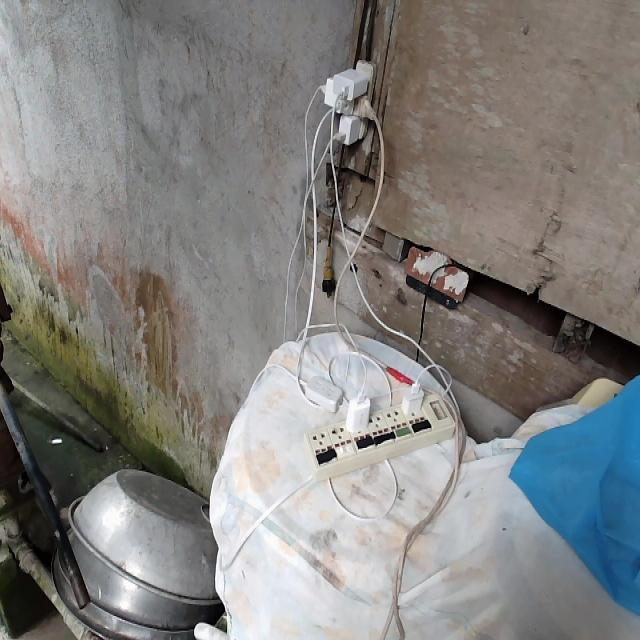-: (317, 56, 379, 145)
